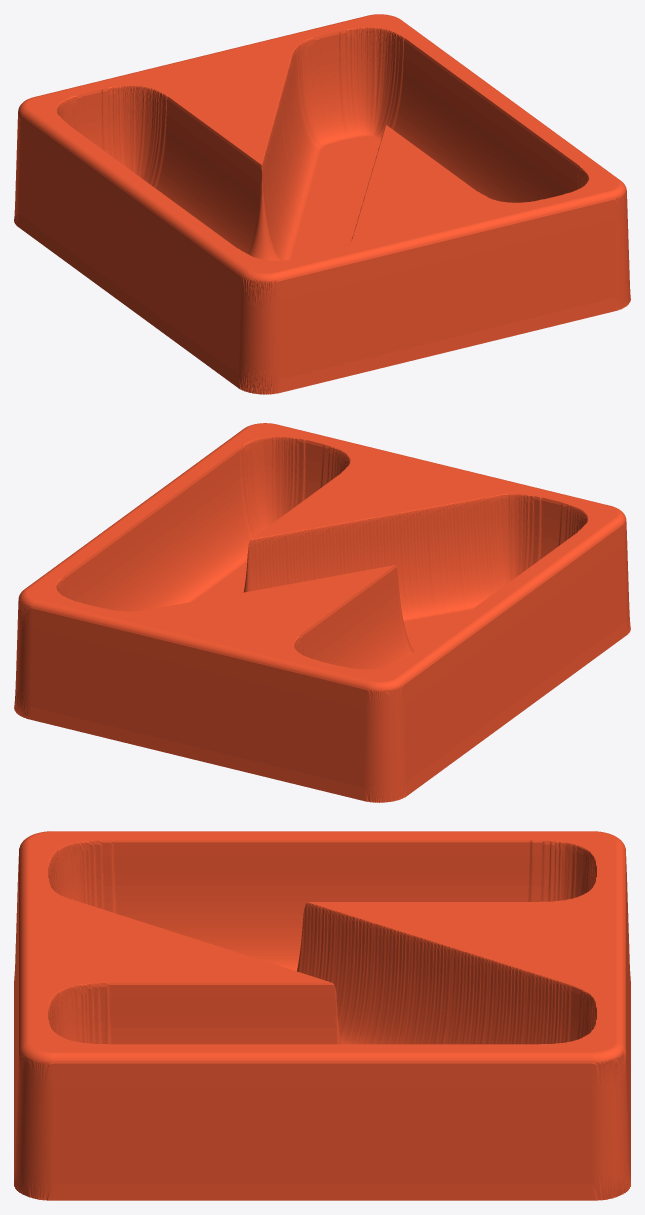
File: mold.glb
The picture shows the model from 3 angles, top to bottom: view 1: azimuth 30°, elevation 25°; view 2: azimuth 150°, elevation 25°; view 3: azimuth 270°, elevation 25°; orthographic projection. The views are drawn at different scales.
Parts seen in each view (by area): view 1: geometry_0; view 2: geometry_0; view 3: geometry_0.
Boxes of the visible parts, x1,y1,x2,y2 form: geometry_0: [14, 14, 630, 394]; geometry_0: [14, 423, 630, 802]; geometry_0: [14, 831, 630, 1200].
Bounding box in the file's own units: 0.1282 × 0.0365 × 0.1435.
